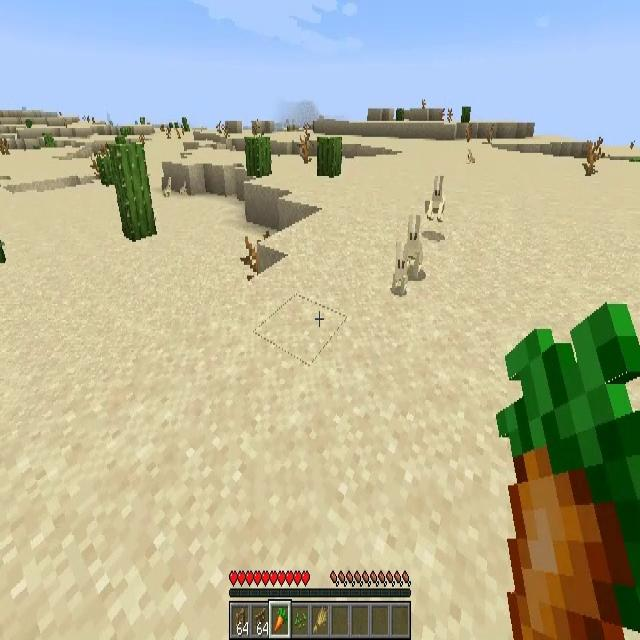rabbit: (401, 216, 425, 278), (426, 176, 447, 222), (393, 246, 409, 292), (162, 177, 171, 198), (467, 148, 475, 163), (179, 181, 187, 195)
